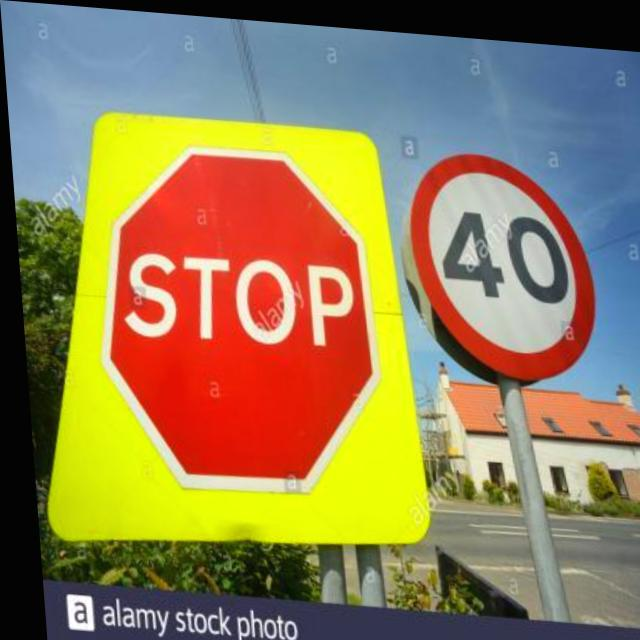limit40: (400, 132, 603, 383)
